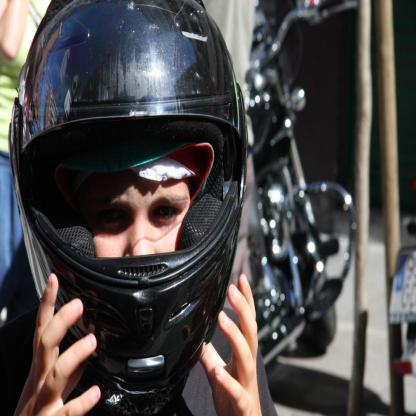Helmet: (8, 0, 248, 416)
